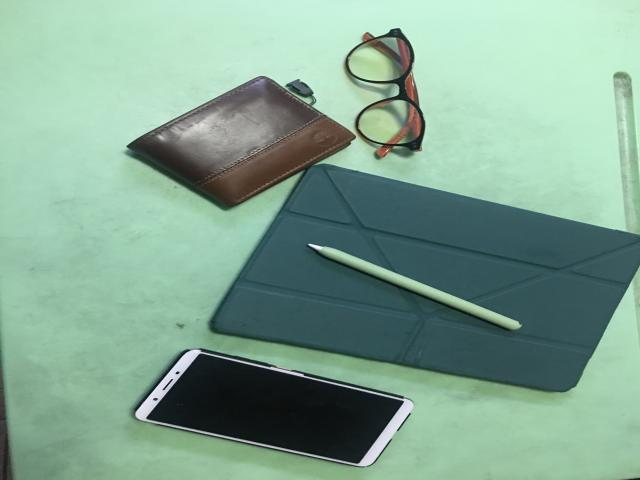Glasses: (345, 28, 425, 156)
Mobile phone: (135, 349, 413, 467)
Wallet: (128, 76, 355, 206)
